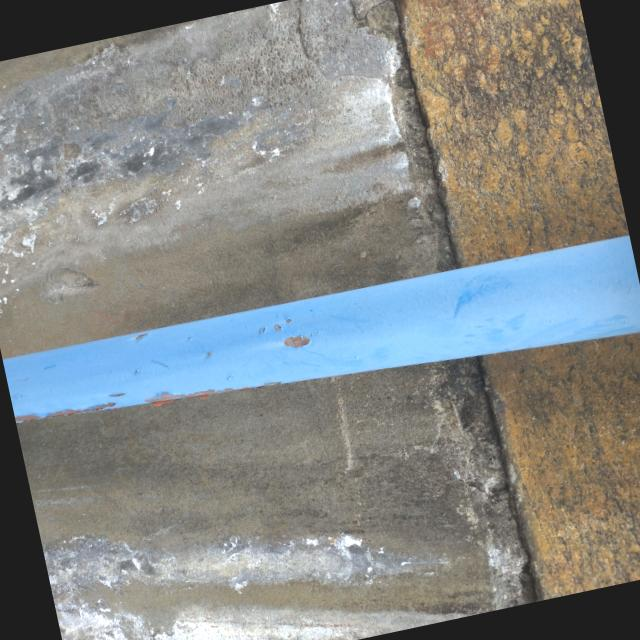gas: (1, 224, 640, 463)
